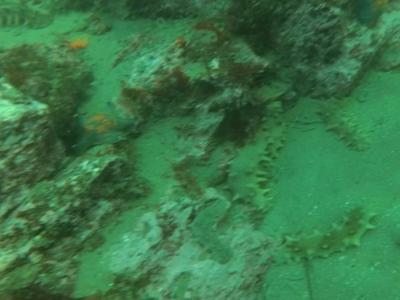holothurian: (224, 111, 295, 215), (282, 207, 376, 262), (187, 198, 236, 265), (317, 104, 372, 154), (1, 6, 57, 32)
